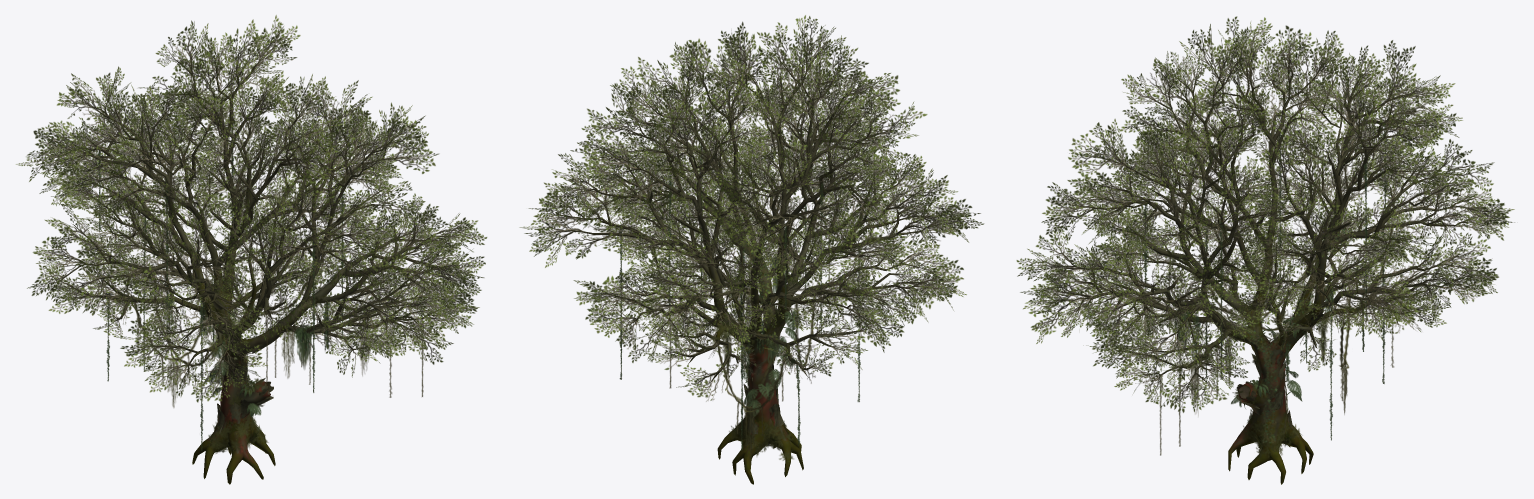
The model's file is tree-128.glb.
The picture shows the model from 3 angles, left to right: view 1: azimuth 30°, elevation 25°; view 2: azimuth 150°, elevation 25°; view 3: azimuth 270°, elevation 25°; orthographic projection. The views are drawn at different scales.
Visible parts, largest first — view 1: TreeGen; view 2: TreeGen; view 3: TreeGen.
Boxes of the visible parts, bbox=[...] form: TreeGen: bbox=[16, 15, 487, 484]; TreeGen: bbox=[519, 15, 984, 484]; TreeGen: bbox=[1016, 16, 1514, 484].
Size of the model in its own units: 21.13 by 22.48 by 24.06.
6 materials, 6 textured.
